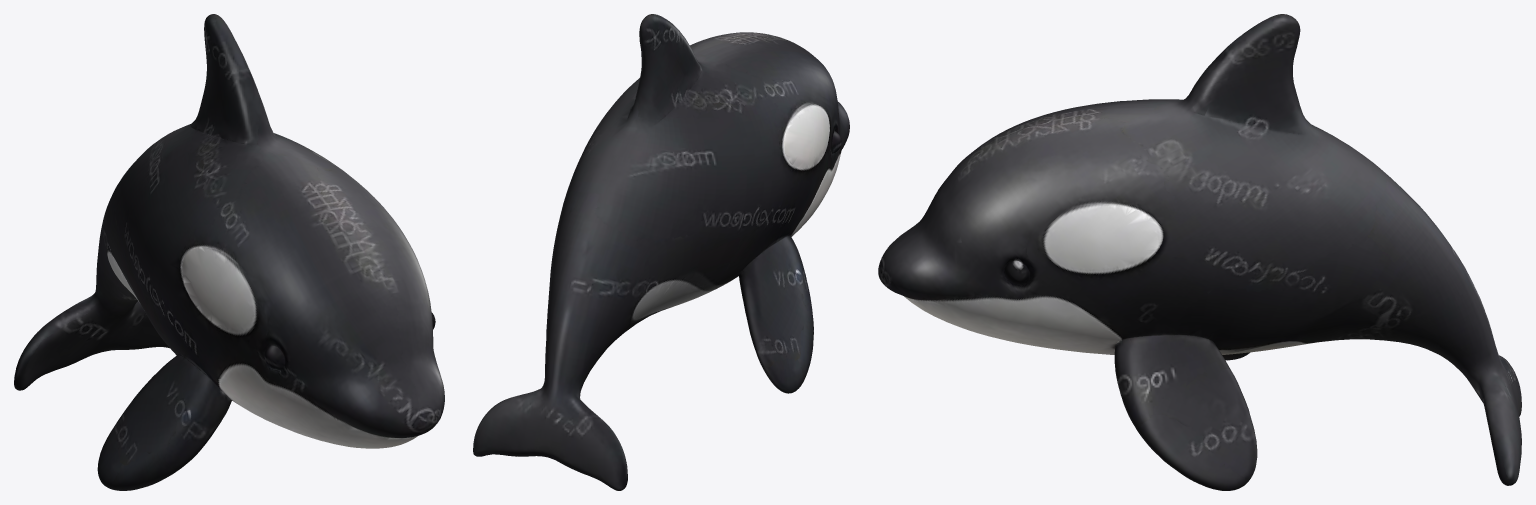
The model's file is orca_pbr.glb.
The picture shows the model from 3 angles, left to right: view 1: azimuth 30°, elevation 25°; view 2: azimuth 150°, elevation 25°; view 3: azimuth 270°, elevation 25°; orthographic projection. The views are drawn at different scales.
Parts seen in each view (by area): view 1: model; view 2: model; view 3: model.
Part boxes in pixels (<box>): model: <box>14,14,444,490</box>; model: <box>473,14,849,490</box>; model: <box>878,14,1521,490</box>.
Size of the model in its own units: 0.8978 by 1.34 by 1.81.
Materials: 1 (1 with a texture image).
